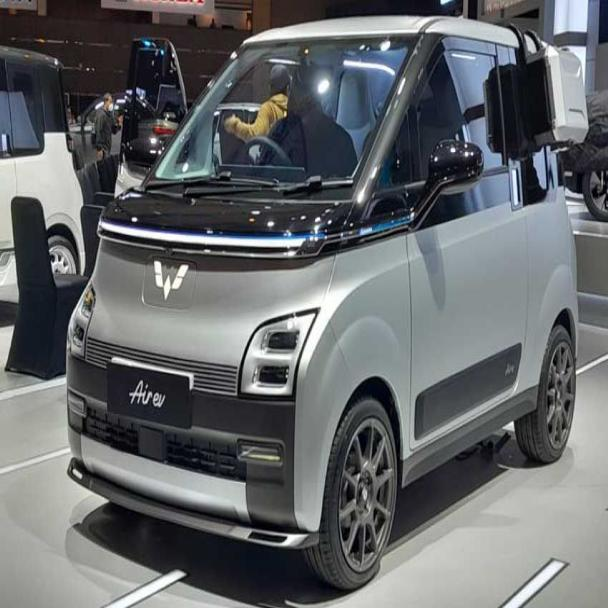Mobil: (69, 23, 581, 586)
